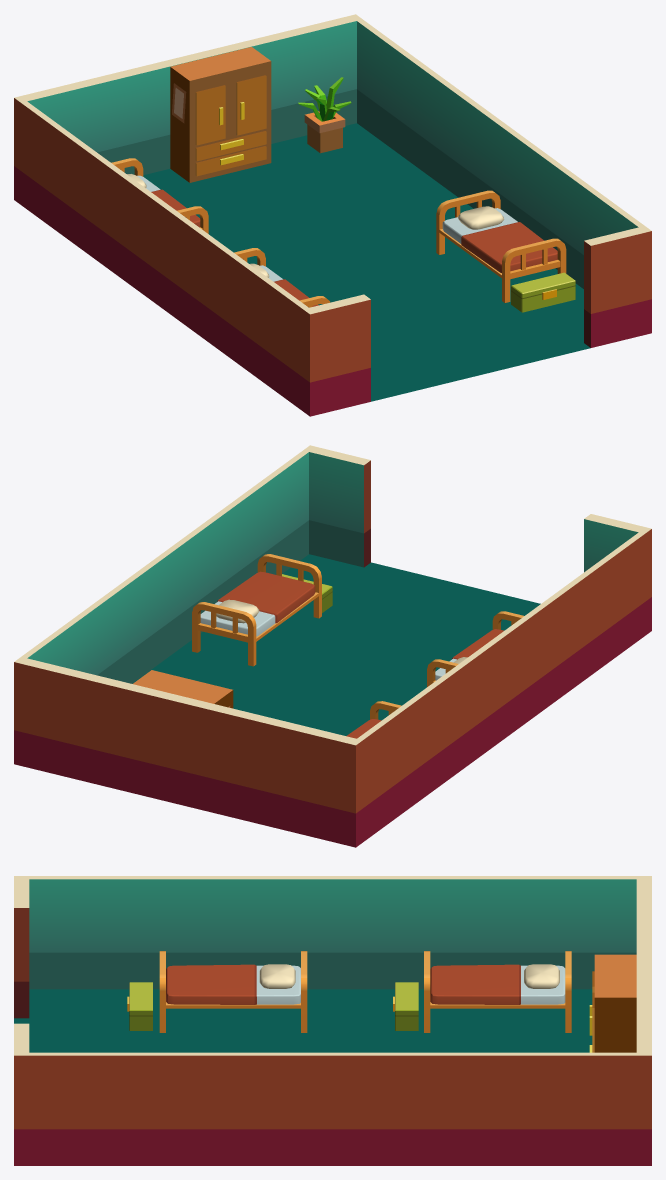
File: Barrack_Lv1_VIP_winter.fbx
3 views of the same model, one above another, from view 1: azimuth 30°, elevation 25°; view 2: azimuth 150°, elevation 25°; view 3: azimuth 270°, elevation 25° (orthographic). The views are drawn at different scales.
Visible parts, largest first — view 1: unit124, wall_half8, wall_half9, wall33, pCube31, wall35, wall34, Bed3, tree, small_chest8, Bed1, Bed2; view 2: wall33, wall_half8, unit124, wall_half9, Bed3, wall34, wall35, pCube31, Bed2, Bed1; view 3: wall_half9, wall_half8, unit124, Bed2, Bed1, wall33, pCube31, wall35, wall34, small_chest6, small_chest7.
Part boxes in pixels (x1=…): unit124: x1=143, y1=123, x2=590, y2=401; wall_half8: x1=14, y1=96, x2=308, y2=410; wall_half9: x1=351, y1=15, x2=646, y2=288; wall33: x1=14, y1=14, x2=362, y2=202; pCube31: x1=170, y1=47, x2=271, y2=182; wall35: x1=303, y1=294, x2=370, y2=416; wall34: x1=584, y1=227, x2=651, y2=347; Bed3: x1=436, y1=190, x2=566, y2=302; tree: x1=298, y1=77, x2=351, y2=153; small_chest8: x1=511, y1=272, x2=575, y2=312; Bed1: x1=111, y1=158, x2=208, y2=233; Bed2: x1=234, y1=248, x2=330, y2=307; wall33: x1=15, y1=657, x2=362, y2=845; wall_half8: x1=349, y1=530, x2=646, y2=847; unit124: x1=132, y1=554, x2=540, y2=735; wall_half9: x1=14, y1=448, x2=311, y2=765; Bed3: x1=192, y1=554, x2=321, y2=666; wall34: x1=306, y1=445, x2=370, y2=567; wall35: x1=584, y1=514, x2=651, y2=635; pCube31: x1=133, y1=670, x2=233, y2=708; Bed2: x1=427, y1=611, x2=523, y2=686; Bed1: x1=346, y1=701, x2=401, y2=738; wall_half9: x1=23, y1=1052, x2=651, y2=1165; wall_half8: x1=23, y1=876, x2=651, y2=989; unit124: x1=14, y1=989, x2=592, y2=1052; Bed2: x1=159, y1=951, x2=307, y2=1032; Bed1: x1=424, y1=951, x2=571, y2=1032; wall33: x1=636, y1=877, x2=651, y2=1165; pCube31: x1=589, y1=954, x2=636, y2=1052; wall35: x1=14, y1=876, x2=29, y2=1018; wall34: x1=14, y1=1023, x2=29, y2=1165; small_chest6: x1=393, y1=982, x2=418, y2=1030; small_chest7: x1=127, y1=982, x2=152, y2=1030.
Bounding box in the file's own units: 700 × 202 × 1050.
